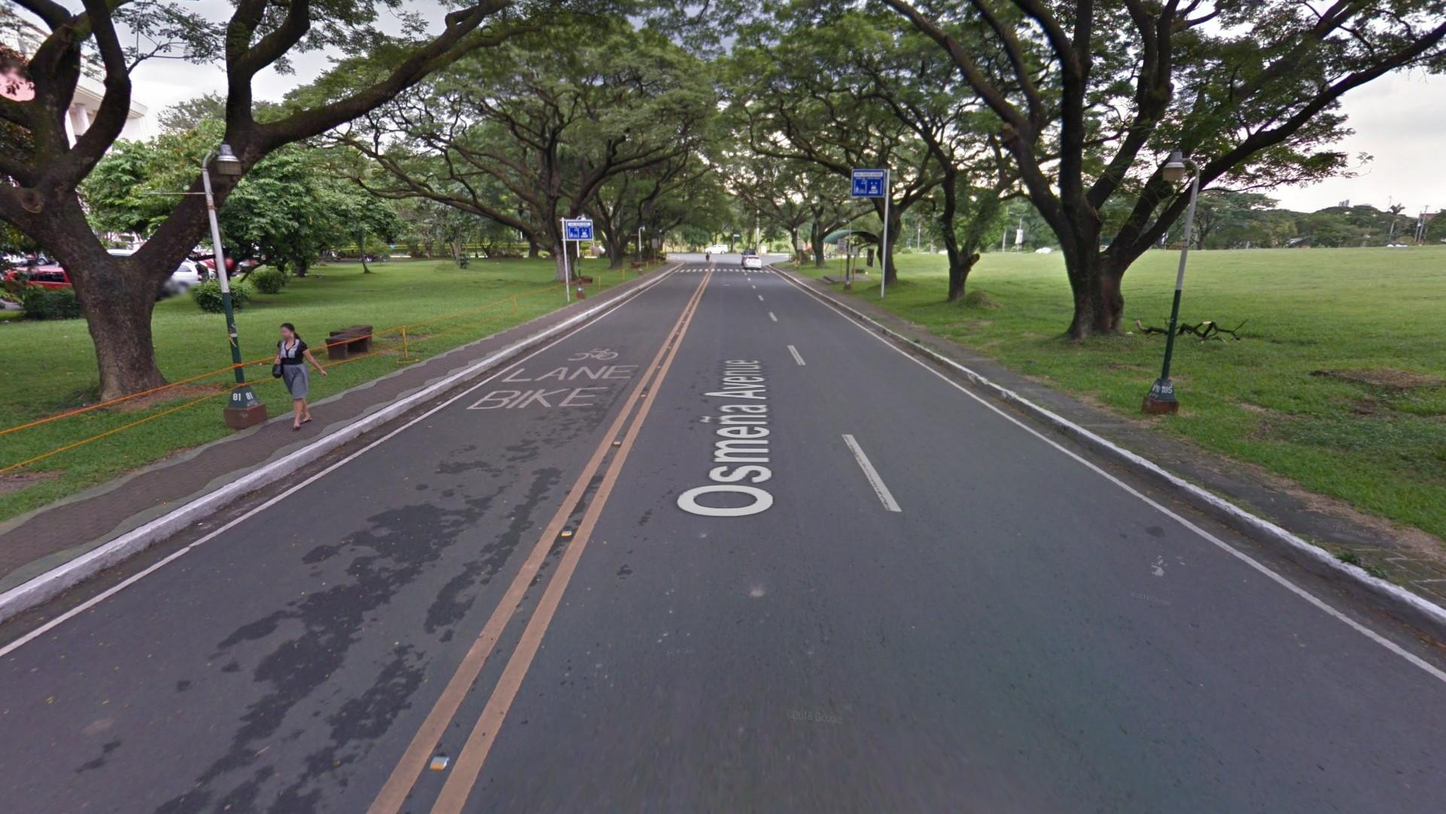pedestrian: (271, 320, 328, 434), (705, 252, 710, 266)
